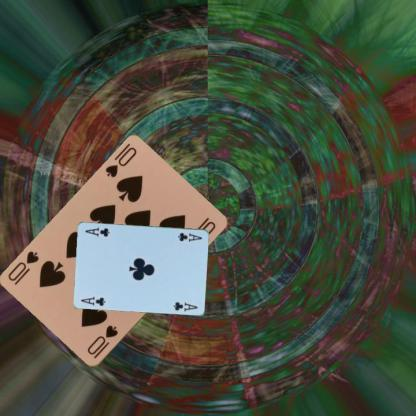10s: (84, 323, 119, 360), (103, 144, 138, 180)
Ac: (78, 293, 107, 307), (176, 230, 203, 243)
